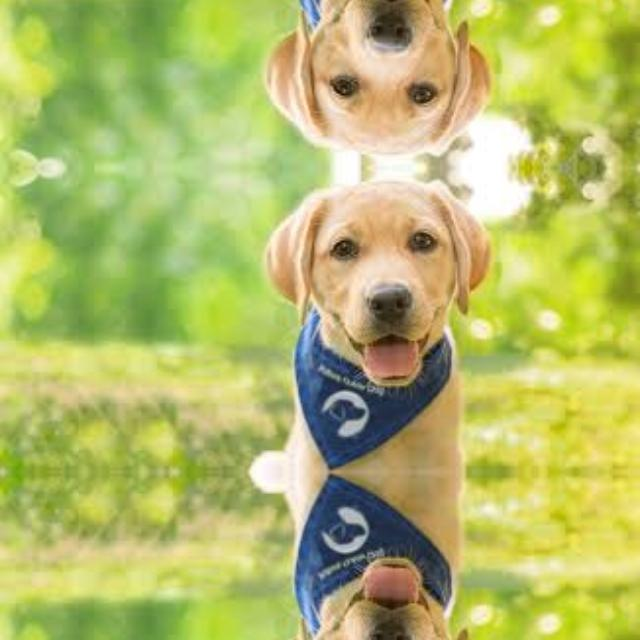dog: (259, 176, 491, 472), (259, 471, 491, 640), (259, 0, 491, 157)
